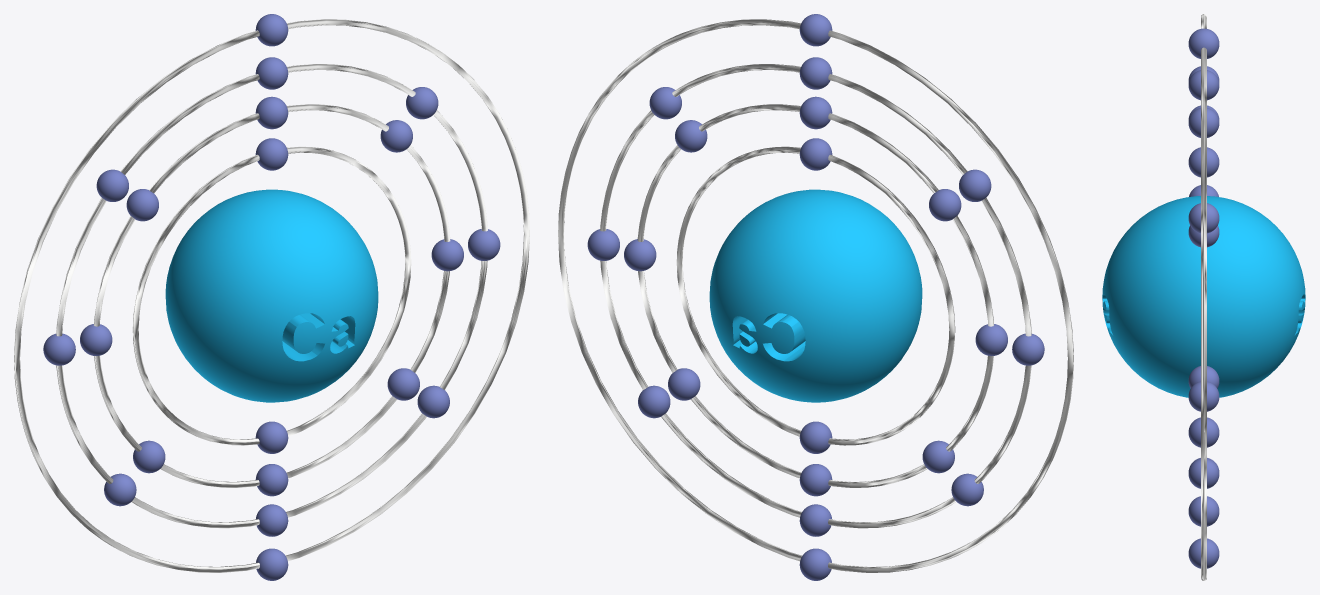
The picture shows the model from 3 angles, left to right: view 1: azimuth 30°, elevation 25°; view 2: azimuth 150°, elevation 25°; view 3: azimuth 270°, elevation 25°; orthographic projection. The views are drawn at different scales.
Parts seen in each view (by area): view 1: Body2.002, Body1.004, Body1.003, Body1.001, Body1.002, Body6, Body11, Body10, Body7, Body19, Body1, Body13 (+13 smaller); view 2: Body2.002, Body1.004, Body1.003, Body1.001, Body1.002, Body6, Body10, Body11, Body7, Body19, Body1, Body13 (+13 smaller); view 3: Body2.002, Body1.004, Body21, Body1, Body18, Body4, Body10, Body11, Body14, Body15, Body19, Body20 (+2 smaller).
Part boxes in pixels (bbox=[...]): Body2.002: bbox=[165, 189, 378, 402]; Body1.004: bbox=[14, 19, 529, 572]; Body1.003: bbox=[56, 64, 487, 528]; Body1.001: bbox=[94, 104, 450, 487]; Body1.002: bbox=[132, 146, 411, 445]; Body6: bbox=[96, 169, 128, 201]; Body11: bbox=[387, 368, 419, 400]; Body10: bbox=[417, 385, 449, 418]; Body7: bbox=[126, 189, 158, 221]; Body19: bbox=[255, 96, 288, 129]; Body1: bbox=[255, 421, 288, 453]; Body13: bbox=[431, 239, 463, 271]; Body2.002: bbox=[709, 189, 922, 402]; Body1.004: bbox=[558, 19, 1073, 572]; Body1.003: bbox=[600, 64, 1031, 528]; Body1.001: bbox=[637, 104, 993, 487]; Body1.002: bbox=[676, 146, 955, 445]; Body6: bbox=[959, 169, 991, 201]; Body10: bbox=[638, 385, 670, 418]; Body11: bbox=[668, 368, 700, 400]; Body7: bbox=[929, 189, 961, 221]; Body19: bbox=[799, 96, 832, 129]; Body1: bbox=[799, 421, 832, 453]; Body13: bbox=[624, 239, 656, 271]; Body2.002: bbox=[1102, 196, 1305, 397]; Body1.004: bbox=[1201, 14, 1206, 580]; Body21: bbox=[1188, 28, 1219, 58]; Body1: bbox=[1188, 417, 1219, 447]; Body18: bbox=[1188, 147, 1219, 177]; Body4: bbox=[1188, 538, 1219, 568]; Body10: bbox=[1188, 496, 1219, 526]; Body11: bbox=[1188, 458, 1219, 488]; Body14: bbox=[1188, 381, 1219, 411]; Body15: bbox=[1188, 203, 1219, 233]; Body19: bbox=[1188, 108, 1219, 137]; Body20: bbox=[1188, 70, 1219, 100].
Size of the model in its own units: 0.293 by 0.3065 by 0.105.
